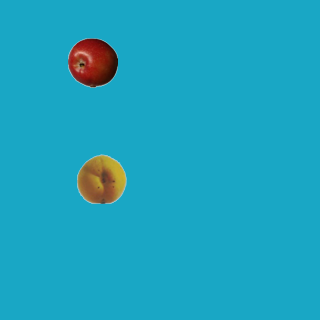Apple Braeburn: (67, 37, 117, 87)
Peach 2: (76, 153, 126, 203)
